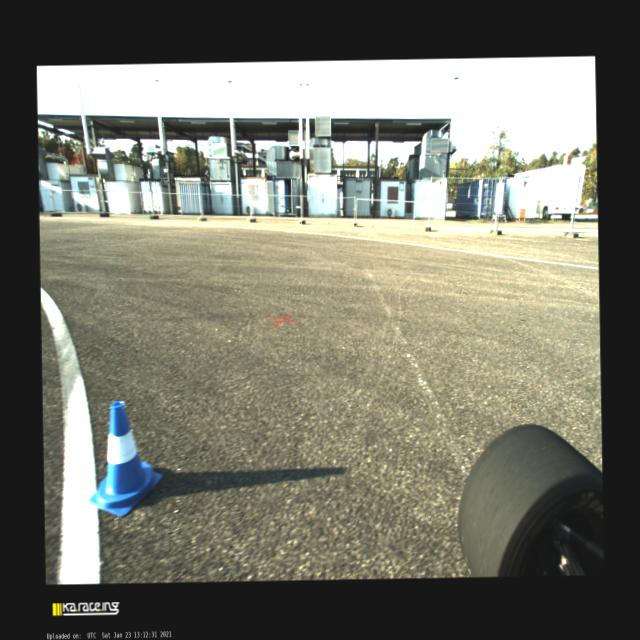blue_cone: (85, 400, 163, 518)
